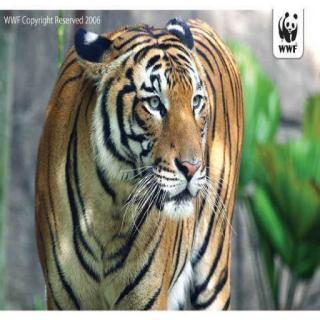Tiger: (31, 16, 252, 320)
